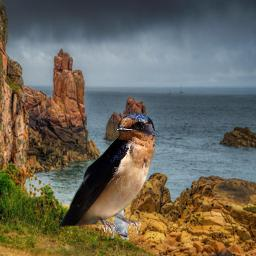Swallow: (57, 112, 155, 239)
